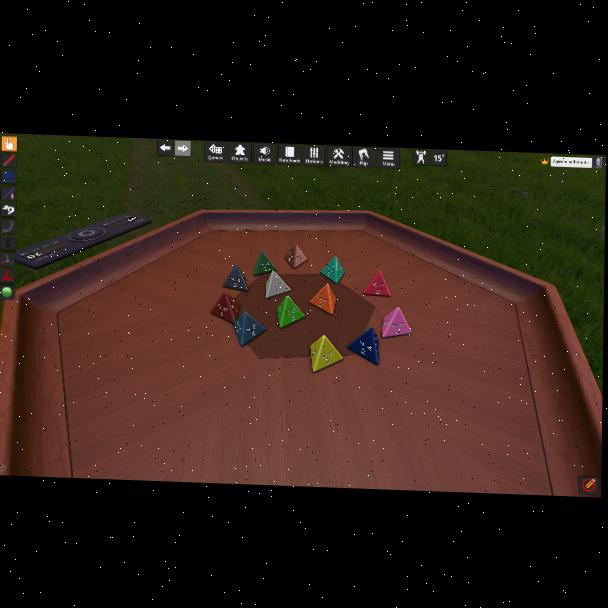d4: (309, 335, 343, 374), (234, 311, 267, 348), (347, 328, 379, 366), (277, 295, 306, 330), (211, 292, 240, 325), (382, 307, 411, 339), (264, 269, 292, 299), (309, 283, 335, 315), (222, 264, 250, 292), (363, 270, 391, 297), (319, 256, 343, 284), (253, 252, 277, 278), (285, 244, 306, 270)
